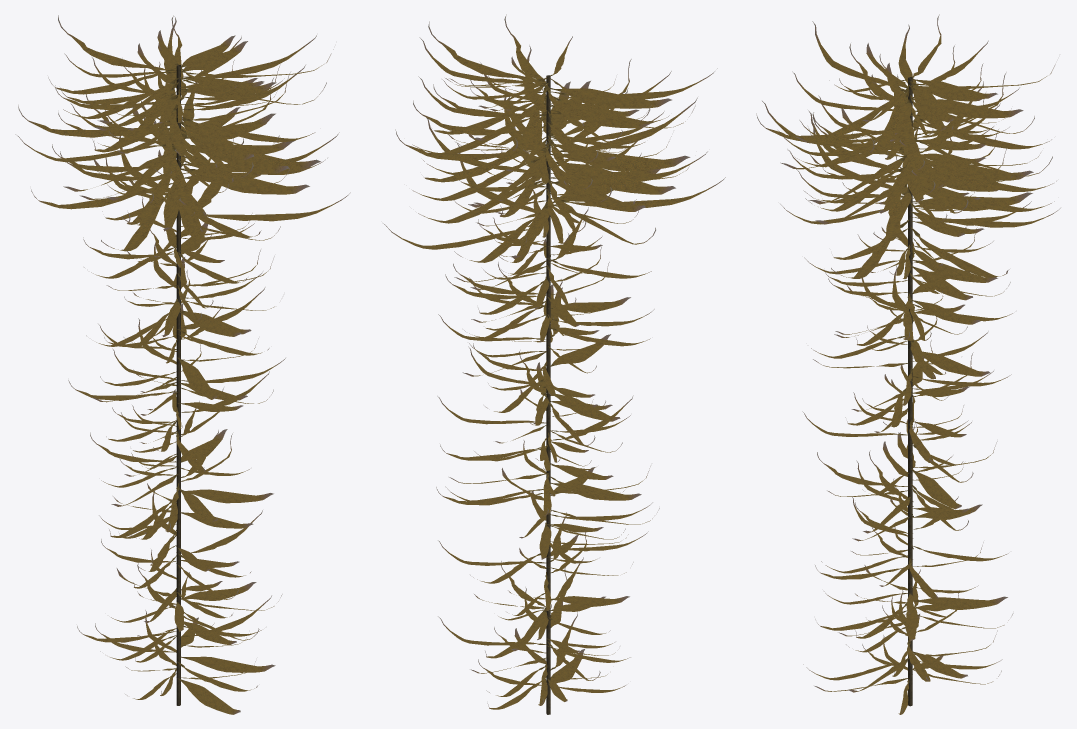
Rendered from kelp.fbx.
3 views of the same model, side by side, from view 1: azimuth 30°, elevation 25°; view 2: azimuth 150°, elevation 25°; view 3: azimuth 270°, elevation 25° (orthographic).
Parts seen in each view (by area): view 1: KelpYellow; view 2: KelpYellow; view 3: KelpYellow.
Part boxes in pixels (x1,y1,x2,y2): KelpYellow: (15,15,350,714); KelpYellow: (383,14,725,714); KelpYellow: (756,14,1060,714).
Size of the model in its own units: 89.09 by 203 by 88.51.
